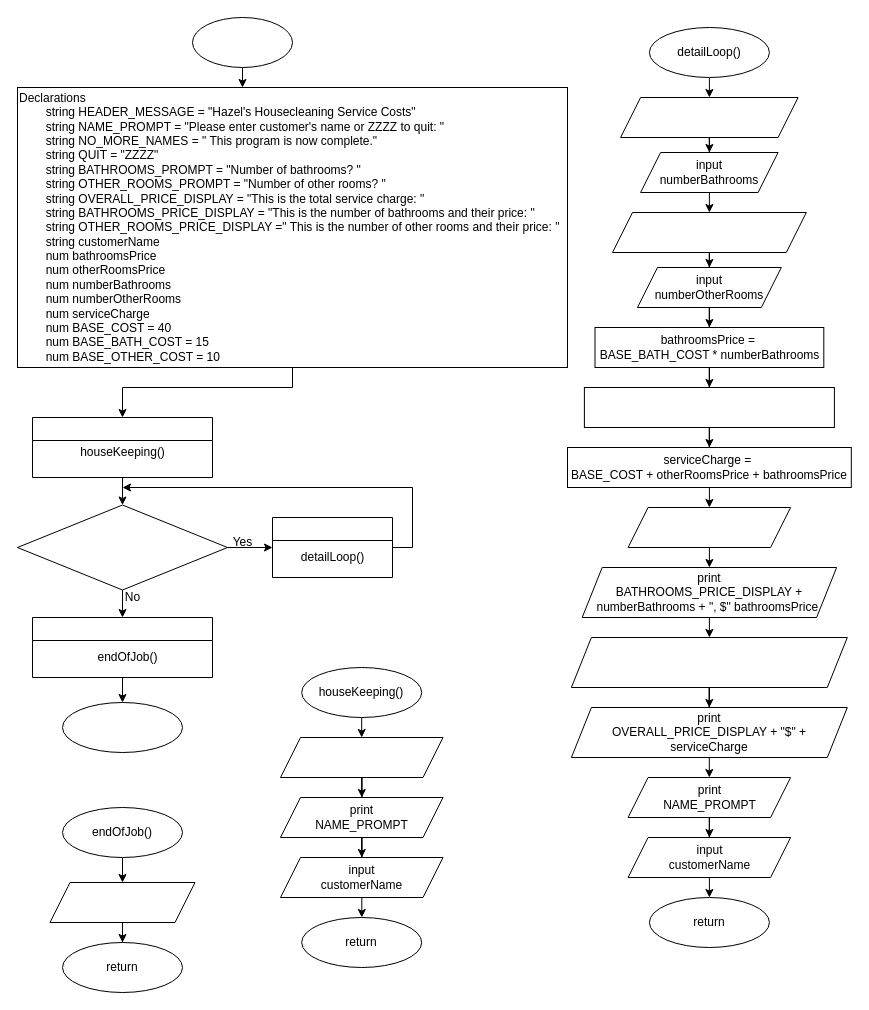
The diagram is 869 pixels wide and 1010 high, and some of its shapes have lost their labels. The shapes that lost their labels are listed below. From the top down, each one's centre as x and y in pixels, then its label:
[242,42]: begin
[709,117]: print BATHROOMS_PROMPT
[709,232]: print OTHER_ROOMS_PROMPT
[708,407]: otherRoomsPrice = BASE_OTHER_COST * numberOtherRooms
[122,547]: customerName not equal to QUIT?
[709,527]: print customerName
[708,662]: print OTHER_ROOMS_PRICE_DISPLAY + numberOtherRooms + ", $" otherRoomsPrice
[122,727]: end
[361,757]: print HEADER_MESSAGE
[122,902]: print NO_MORE_NAMES
